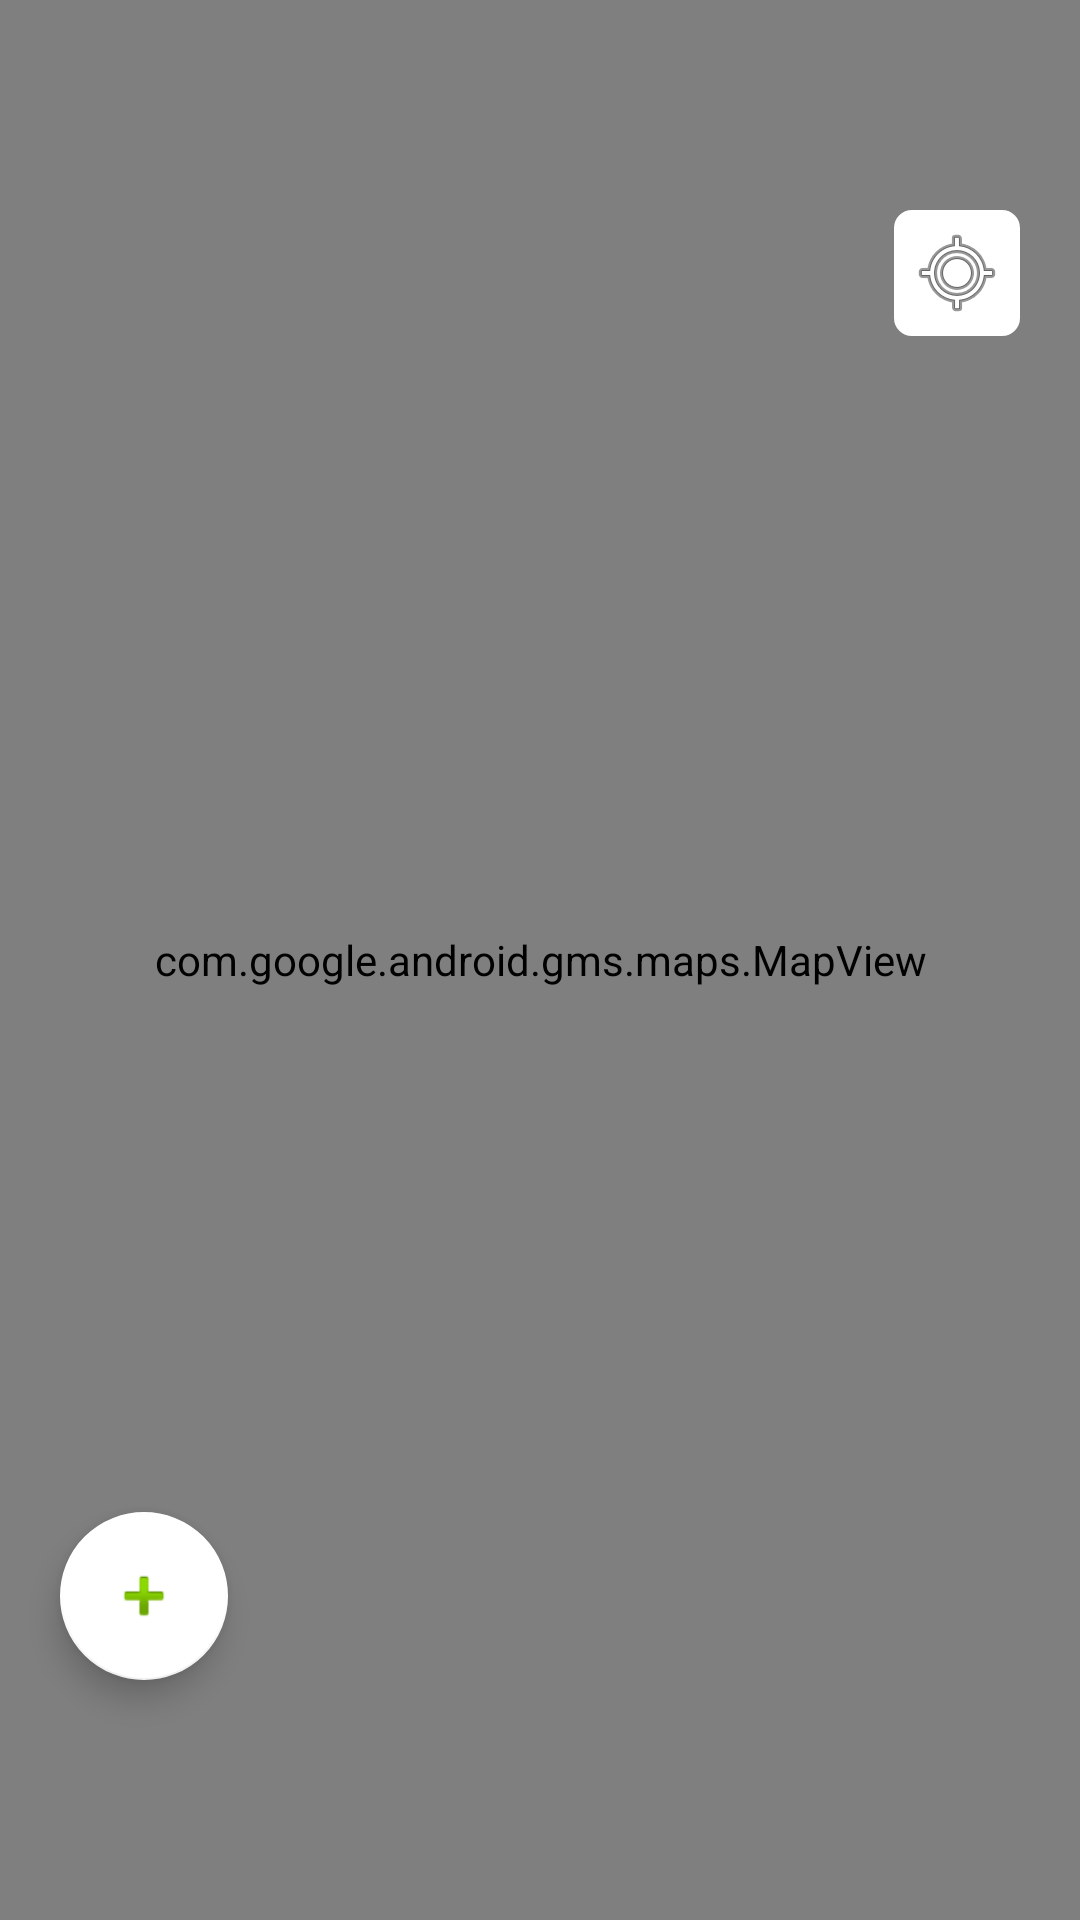

Screen size 1080x1920. Icon name, then its box in pixels as [left=x1, top=y1, right=x2, bottom=y2]:
add: [left=60, top=1512, right=228, bottom=1680]
mylocation: [left=894, top=210, right=1020, bottom=336]
